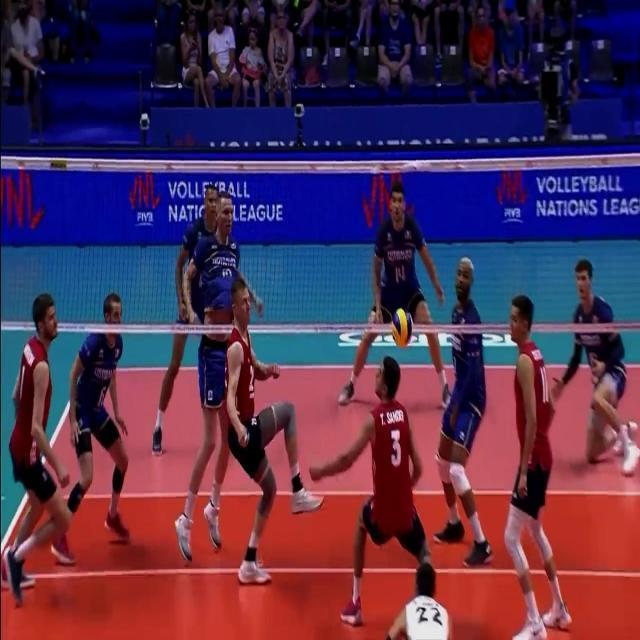volleyball: (392, 310, 412, 346)
